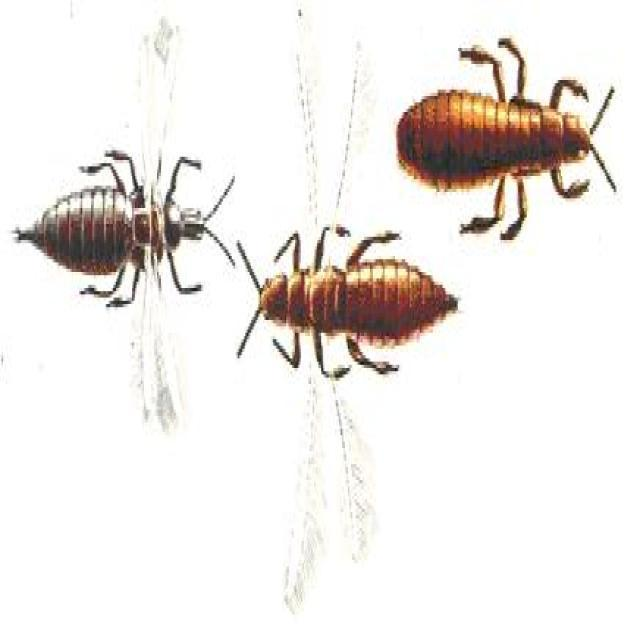Thrips: (230, 163, 450, 470), (3, 104, 267, 309), (370, 41, 621, 246)
